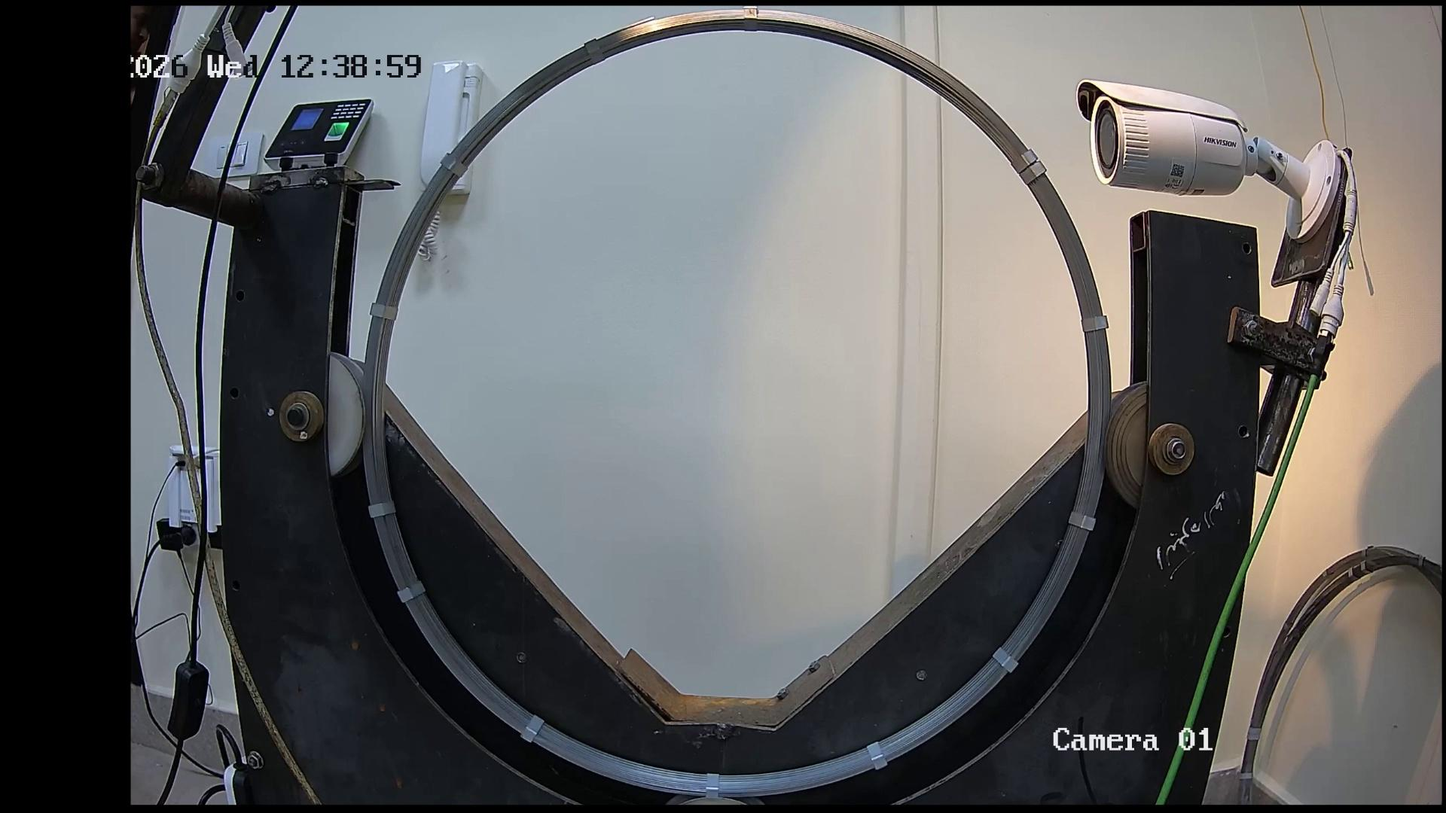clamp: (439, 152, 468, 179), (1010, 148, 1039, 175), (1019, 160, 1048, 185), (396, 579, 426, 603), (520, 715, 545, 743), (992, 647, 1018, 673), (866, 741, 888, 770), (369, 301, 399, 322), (583, 37, 606, 64), (1068, 511, 1096, 531), (366, 500, 397, 518), (1080, 315, 1109, 333), (742, 6, 759, 33), (706, 773, 719, 800)
